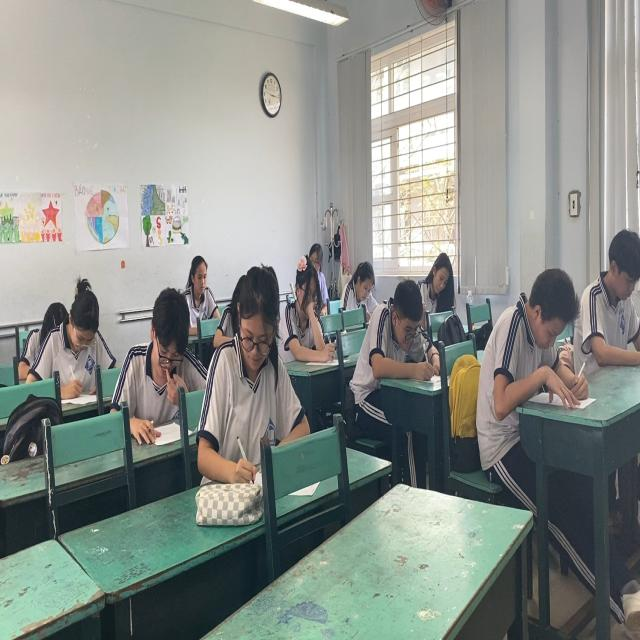not_cheating: (20, 264, 119, 399), (490, 272, 578, 406), (220, 274, 290, 440), (122, 288, 208, 423), (575, 233, 640, 340), (374, 274, 426, 372), (282, 250, 332, 340), (332, 261, 383, 323), (412, 247, 455, 312), (182, 257, 220, 330)
